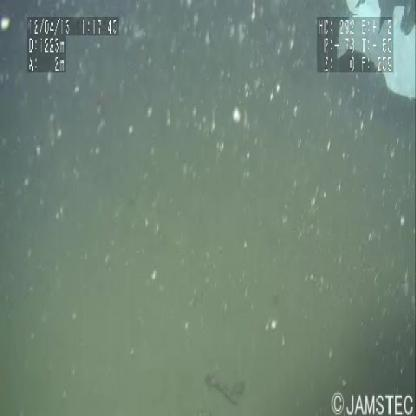Rác: (336, 0, 416, 103)
